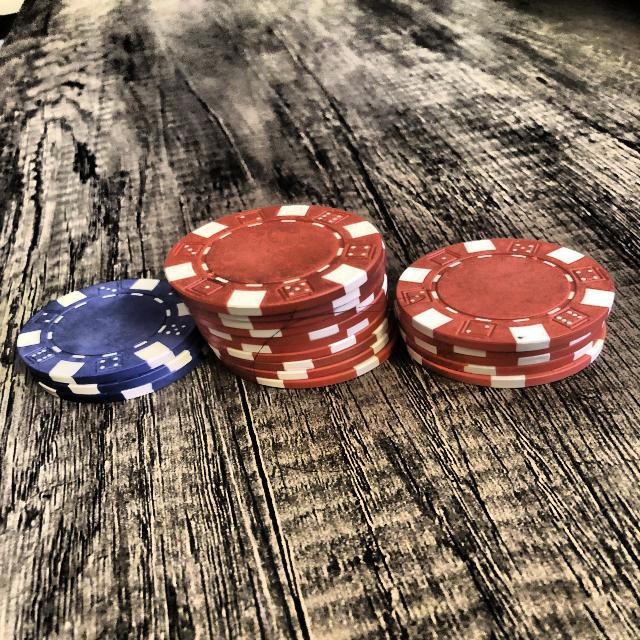Chip: (158, 184, 401, 402), (383, 218, 625, 404), (17, 266, 211, 406)
